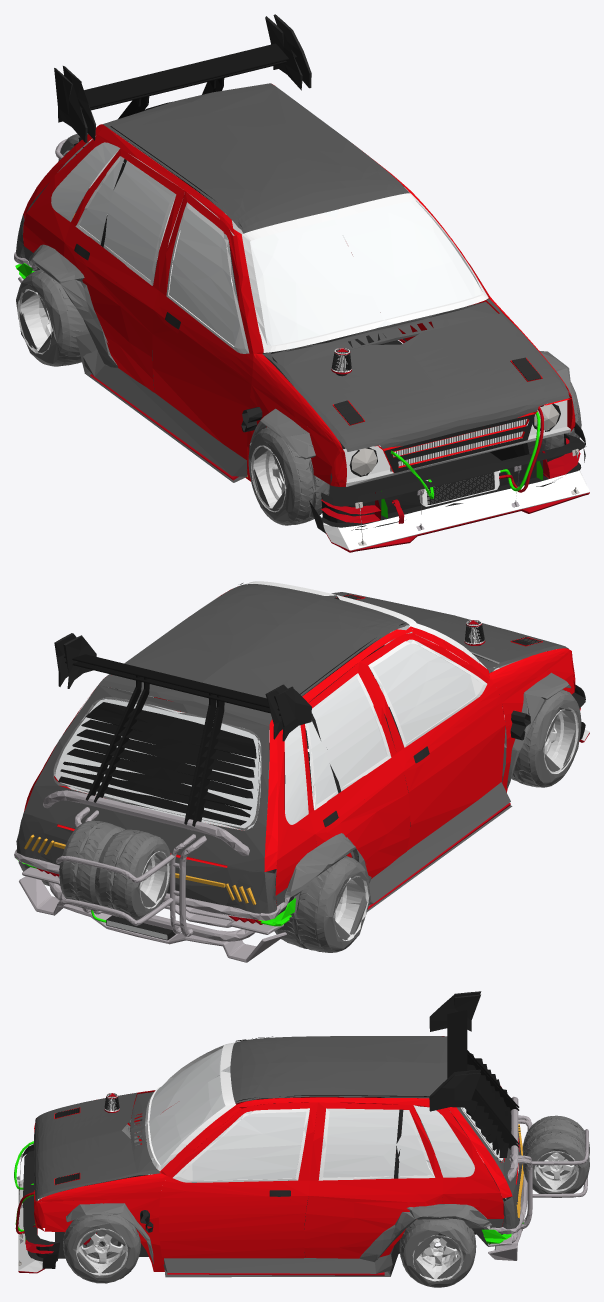
3 views of the same model, one above another, from view 1: azimuth 30°, elevation 25°; view 2: azimuth 150°, elevation 25°; view 3: azimuth 270°, elevation 25° (orthographic). The views are drawn at different scales.
Visible parts, largest first — view 1: Mirror14, Surface-Trim4, Surface-Fill4, Surface-Fill40, Surface-Trim22[5], Plane.004, Surface-Trim22[8], Tire LB002.002, Surface-Fill10.001, Plane.010, Surface-Fill28.001, Surface-Fill4.001 (+34 smaller); view 2: Mirror14, Surface-Fill40, RearWindow_Rubber_0, Surface-Trim21, Surface-Trim22[5], Tire LB002.001, Tire LB002.003, Surface-Trim22[8], Surface-Trim4, Surface-Fill28.001, Plane.008, Tire LB002.002 (+36 smaller); view 3: Mirror14, Surface-Fill40, Surface-Trim22[2], Surface-Trim22[4], Surface-Trim4, Surface-Fill4, Surface-Fill28.001, Tire LB002.002, Tire LB002.003, Tire LB002.001, Plane.012, Surface-Trim24[1] (+31 smaller).
Boxes of the visible parts, x1,y1,x2,y2 form: Mirror14: (108, 86, 409, 233); Surface-Trim4: (262, 299, 569, 451); Surface-Fill4: (250, 193, 488, 351); Surface-Fill40: (57, 135, 409, 352); Surface-Trim22[5]: (152, 310, 251, 469); Plane.004: (323, 470, 589, 550); Surface-Trim22[8]: (64, 243, 154, 392); Tire LB002.002: (248, 382, 581, 525); Surface-Fill10.001: (321, 433, 585, 527); Plane.010: (80, 43, 297, 110); Surface-Fill28.001: (83, 349, 247, 476); Surface-Fill4.001: (242, 193, 488, 352); Mirror14: (108, 584, 409, 714); Surface-Fill40: (54, 639, 475, 830); RearWindow_Rubber_0: (58, 702, 256, 825); Surface-Trim21: (24, 675, 272, 905); Surface-Trim22[5]: (404, 703, 505, 850); Tire LB002.001: (59, 820, 170, 919); Tire LB002.003: (16, 819, 370, 952); Surface-Trim22[8]: (315, 771, 410, 878); Surface-Trim4: (325, 592, 568, 672); Surface-Fill28.001: (369, 782, 510, 904); Plane.008: (85, 675, 224, 826); Tire LB002.002: (511, 689, 581, 787); Mirror14: (230, 1036, 439, 1103); Surface-Fill40: (175, 1075, 504, 1180); Surface-Trim22[2]: (159, 1176, 309, 1264); Surface-Trim22[4]: (304, 1177, 443, 1258); Surface-Trim4: (34, 1090, 160, 1200); Surface-Fill4: (145, 1048, 235, 1170); Surface-Fill28.001: (164, 1254, 392, 1273); Tire LB002.002: (63, 1124, 140, 1283); Tire LB002.003: (399, 1121, 476, 1287); Tire LB002.001: (522, 1115, 589, 1197); Plane.012: (429, 991, 481, 1111); Surface-Trim24[1]: (38, 1198, 164, 1271).
Bounding box in the file's own units: 1.42 × 1.14 × 2.95.
